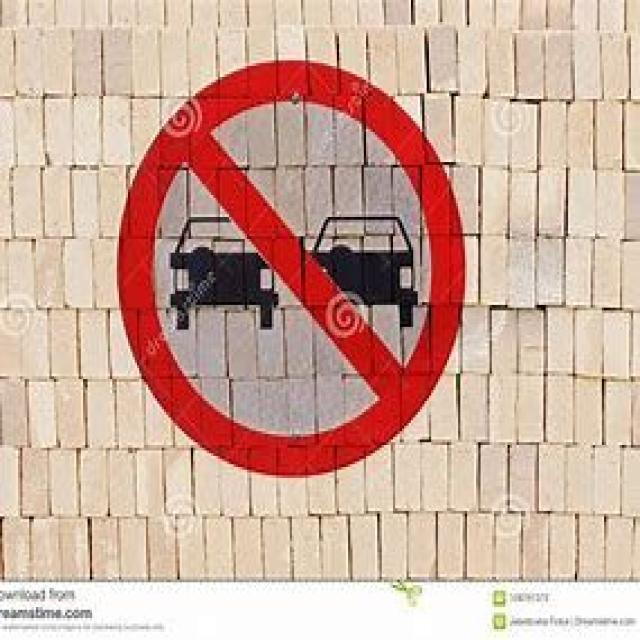overtaking prohibited: (117, 58, 477, 477)
